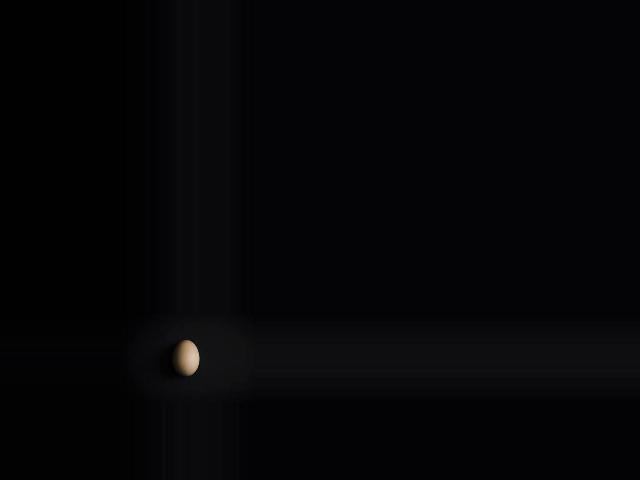egg: (173, 339, 200, 377)
